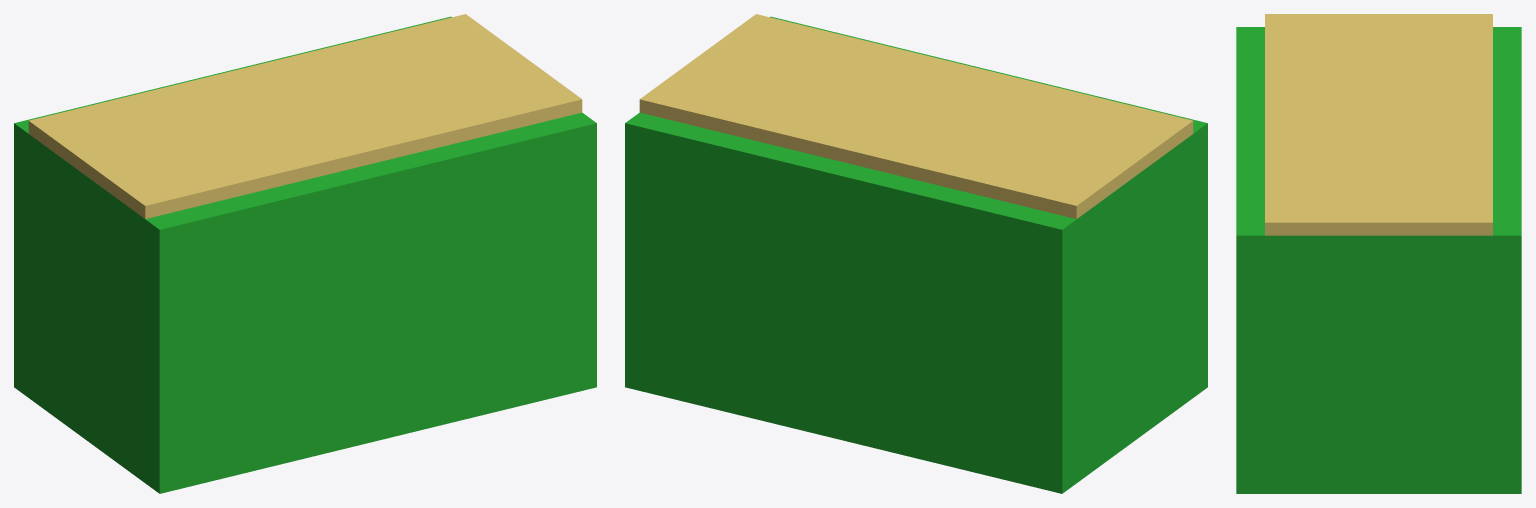
File: path_edge.glb
3 renders of one model, left to right at view 1: azimuth 30°, elevation 25°; view 2: azimuth 150°, elevation 25°; view 3: azimuth 270°, elevation 25°, orthographic. The views are drawn at different scales.
Parts seen in each view (by area): view 1: path_edge; view 2: path_edge; view 3: path_edge.
Boxes of the visible parts, box(x1,y1,x2,y2) form: path_edge: box(14, 14, 596, 493); path_edge: box(625, 14, 1207, 493); path_edge: box(1236, 14, 1521, 493).
Size of the model in its own units: 0.866 by 0.525 by 0.5.
